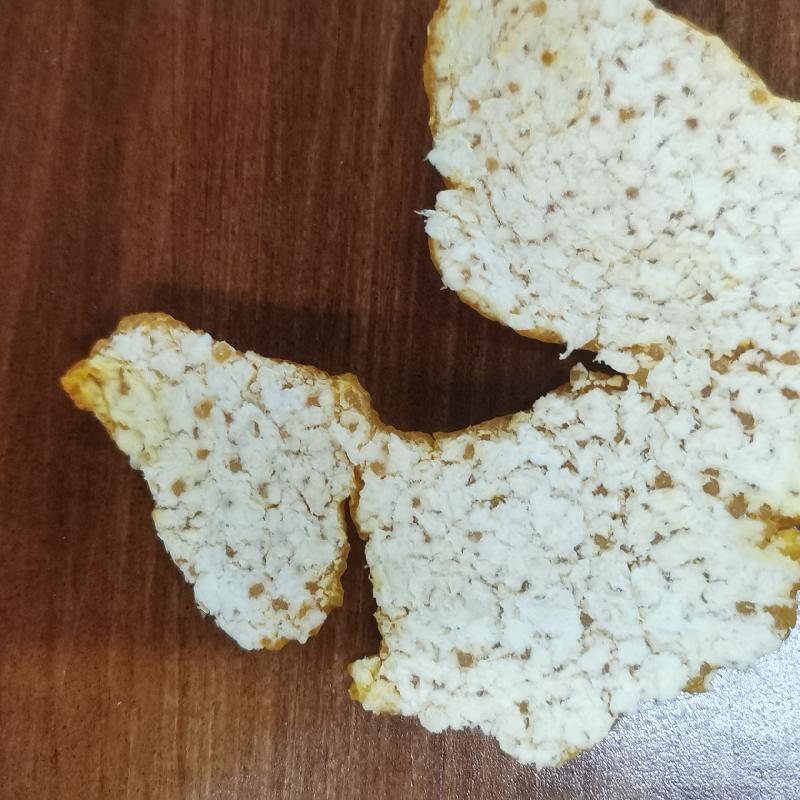orange: (55, 1, 799, 763)
